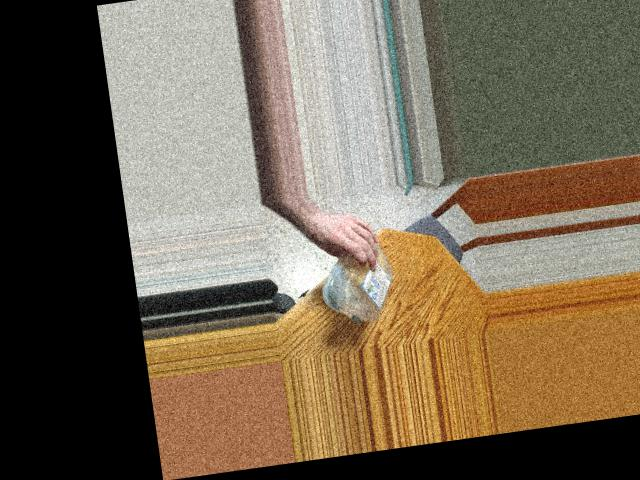cheese: (316, 226, 403, 330)
